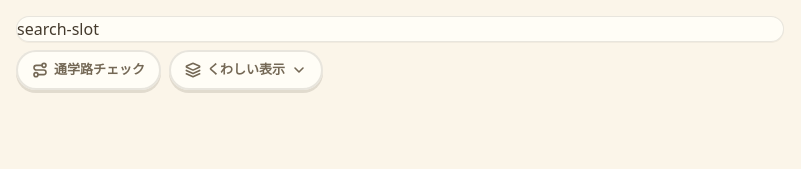
it: MapTopOverlay › folding when the map is touched › folds the row when foldSignal changes
Later steps or results of the test are not shown.
Click the button "くわしい表示".
click(246, 70)  # box [169,50,323,90]
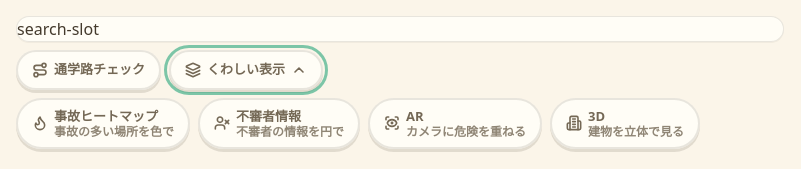
Result: the element named "くわしい表示" is shown at [16,98,784,153]
